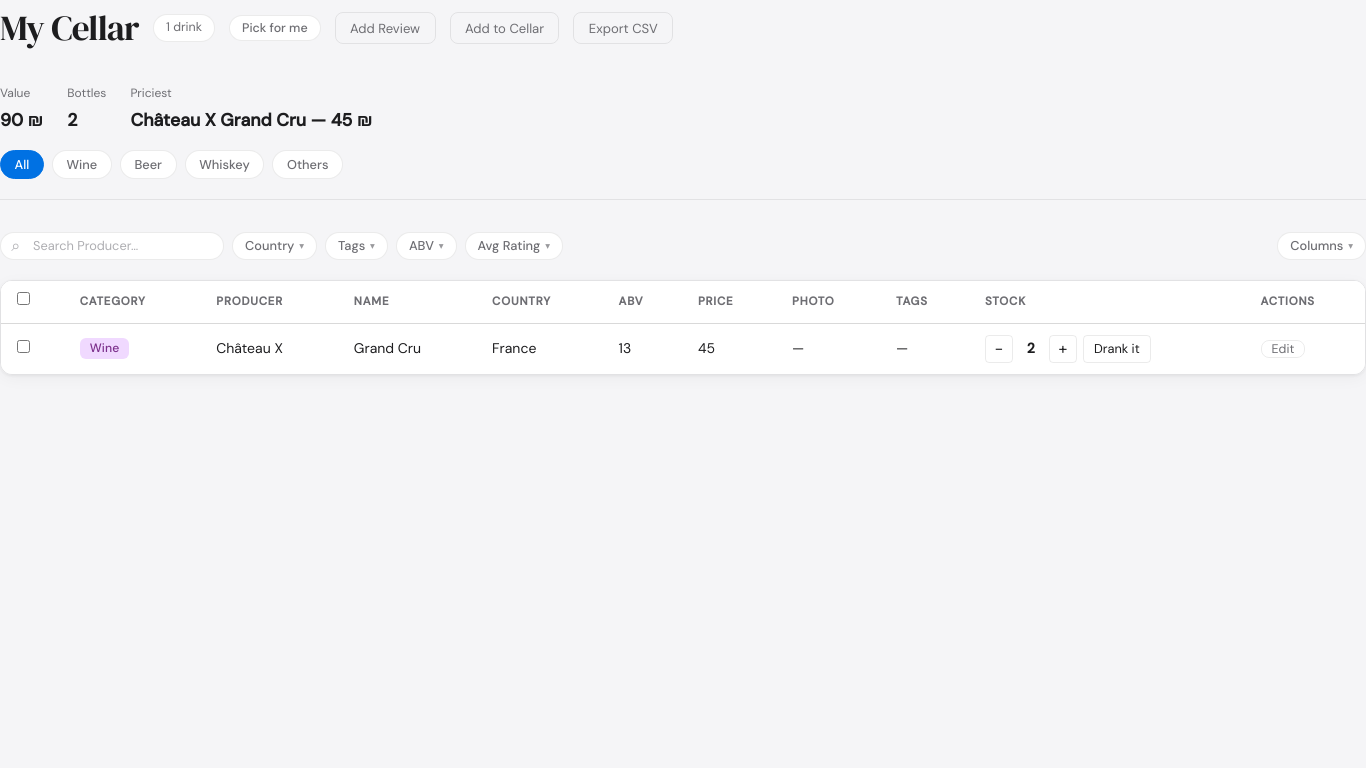
Pick for me shows spotlight dialog
This screenshot has width=1366, height=768.
Check: the text "Grand Cru" is shown, box [338,323,476,374]
Click the button "Pick for me": [275, 28] box [229,15,321,41]
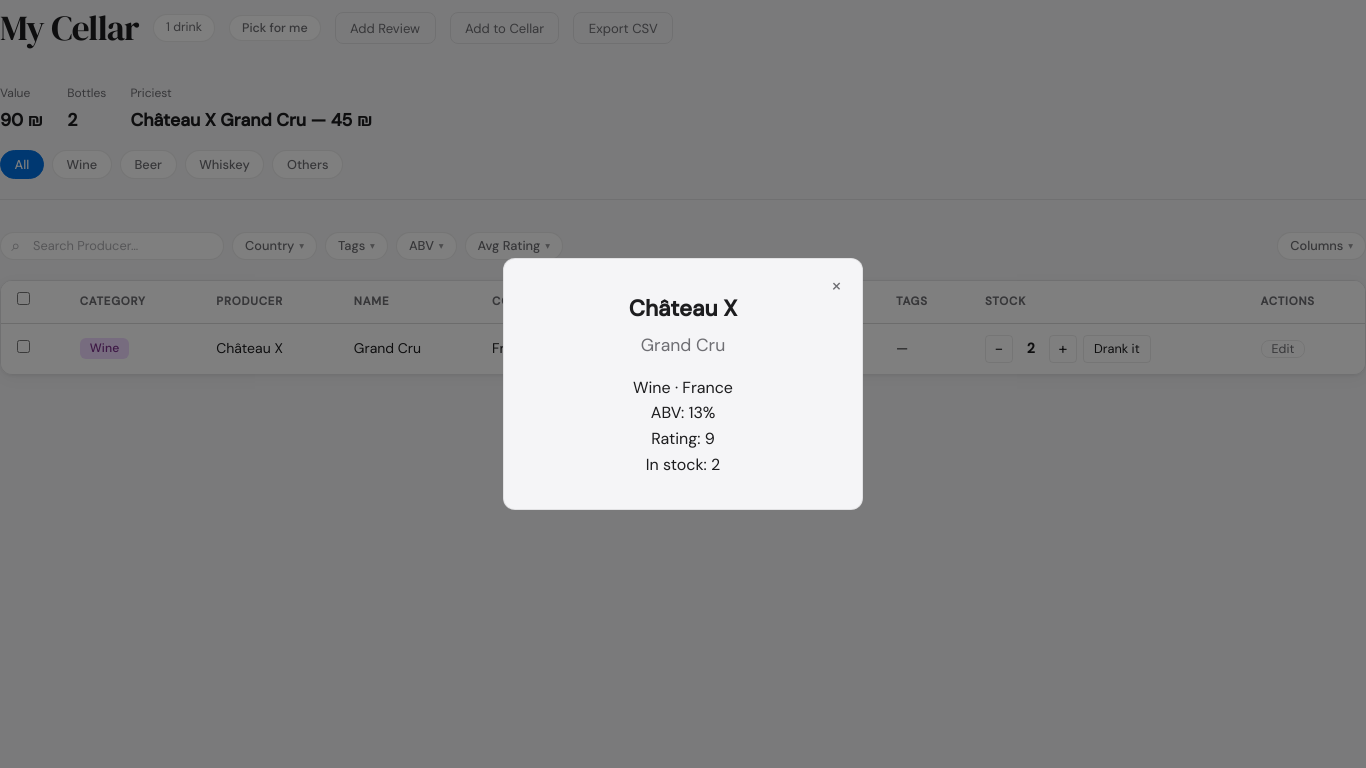
Check: the dialog is shown
